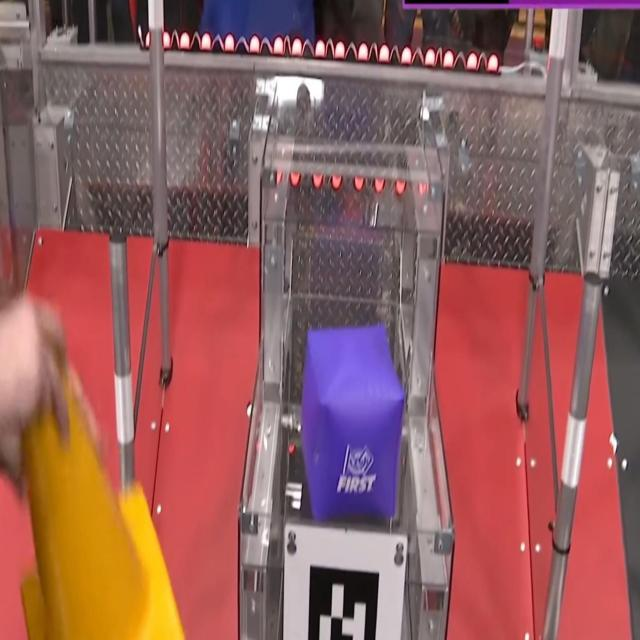frc_cone: (20, 342, 188, 640)
frc_cube: (304, 322, 407, 523)
